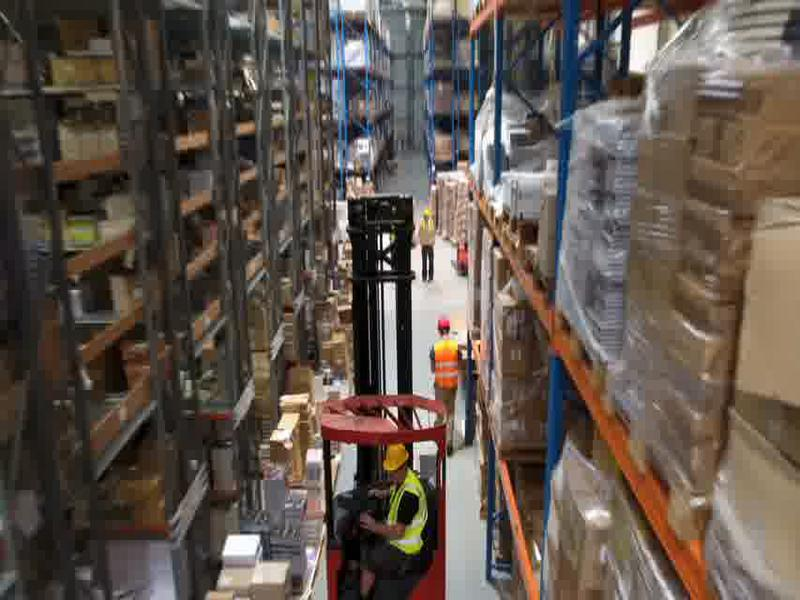hard-hat: (381, 441, 410, 473), (437, 316, 454, 334), (421, 207, 433, 217)
